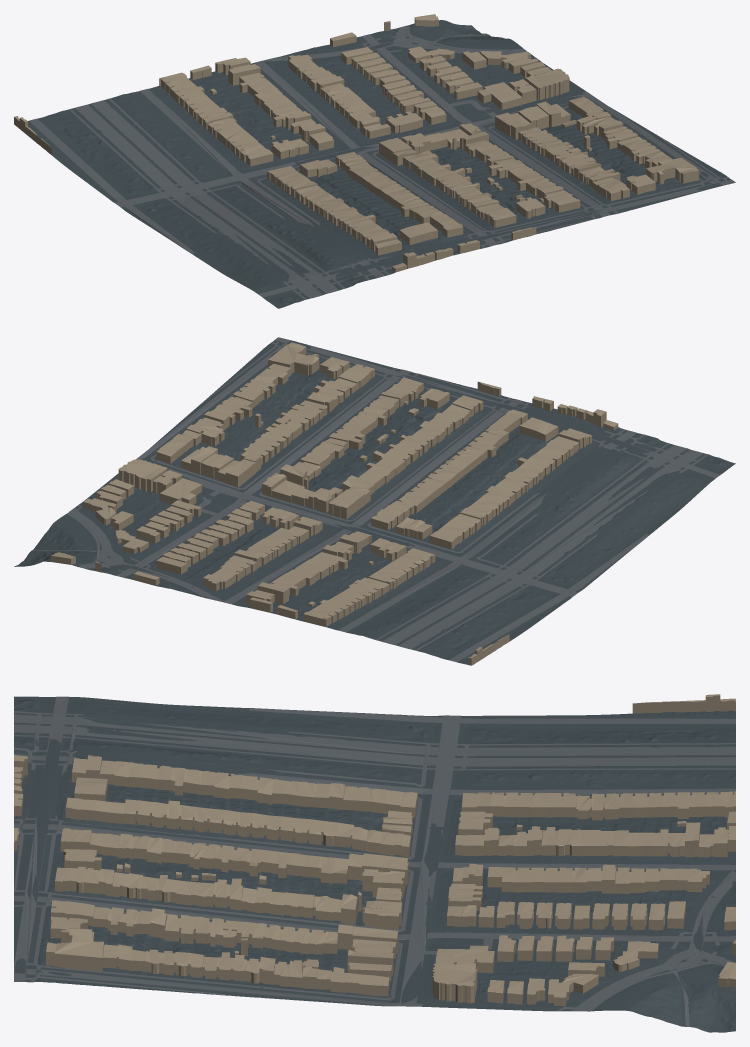
The model's file is epsg26910-1418-10877.lod0.glb.
3 renders of one model, top to bottom at view 1: azimuth 30°, elevation 25°; view 2: azimuth 150°, elevation 25°; view 3: azimuth 270°, elevation 25°, orthographic. The views are drawn at different scales.
Visible parts, largest first — view 1: epsg26910-1418-10877-lod0; view 2: epsg26910-1418-10877-lod0; view 3: epsg26910-1418-10877-lod0.
Part boxes in pixels (bbox=[...]): epsg26910-1418-10877-lod0: bbox=[14, 14, 735, 308]; epsg26910-1418-10877-lod0: bbox=[14, 337, 735, 665]; epsg26910-1418-10877-lod0: bbox=[14, 694, 735, 1032].
Size of the model in its own units: 384 by 38.15 by 384.
